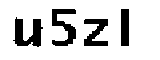5: (46, 4, 78, 48)
l: (116, 1, 134, 50)
u: (11, 14, 43, 51)
z: (82, 16, 112, 51)
